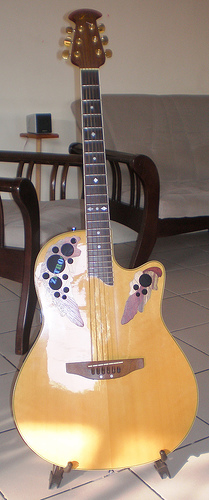guitar: (13, 5, 201, 472)
